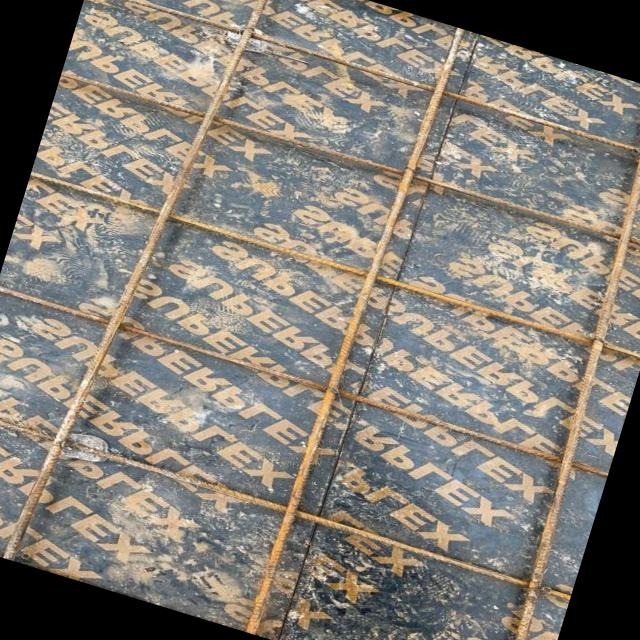ribbed bar: (1, 0, 282, 585), (245, 19, 465, 640), (30, 167, 640, 365), (0, 285, 608, 477), (62, 63, 640, 263), (0, 407, 571, 601), (88, 0, 640, 178), (465, 87, 640, 640)
